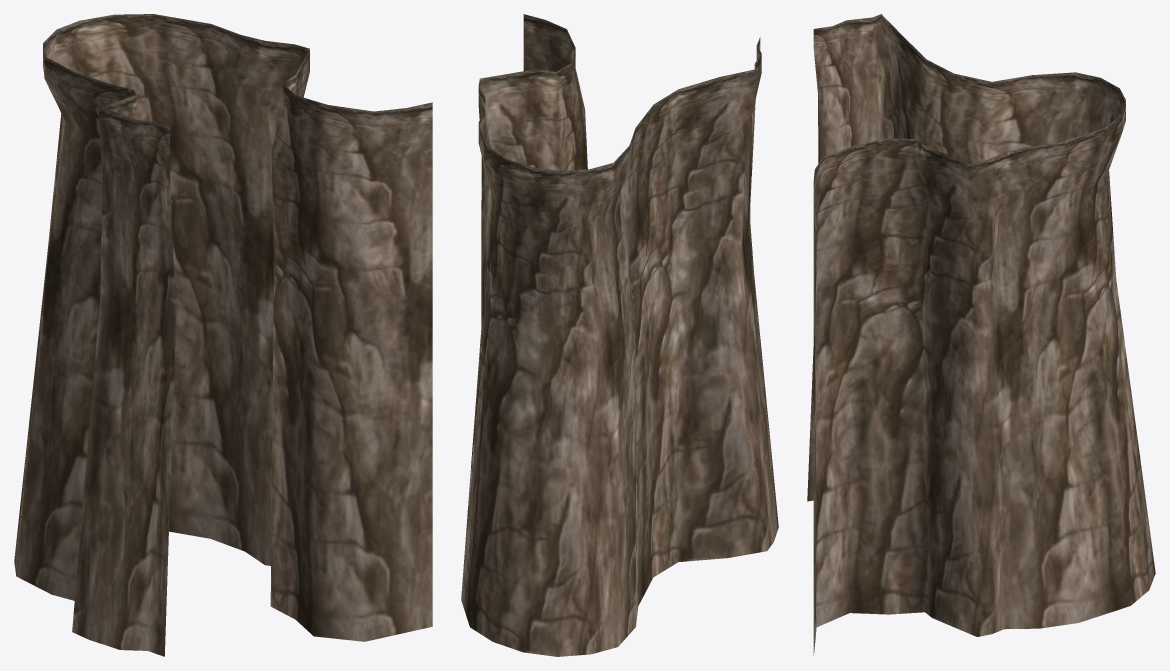
Rendered from OVERHILL_A_01_LINE63.fbx.
3 renders of one model, left to right at view 1: azimuth 30°, elevation 25°; view 2: azimuth 150°, elevation 25°; view 3: azimuth 270°, elevation 25°, orthographic. The views are drawn at different scales.
Parts seen in each view (by area): view 1: OVERHILL_A_01_LINE63; view 2: OVERHILL_A_01_LINE63; view 3: OVERHILL_A_01_LINE63.
Boxes of the visible parts, bbox=[...] form: OVERHILL_A_01_LINE63: bbox=[14, 14, 432, 656]; OVERHILL_A_01_LINE63: bbox=[461, 14, 778, 656]; OVERHILL_A_01_LINE63: bbox=[807, 14, 1155, 655].
Bounding box in the file's own units: 106787 × 182145 × 112429.
2 materials, 2 textured.
